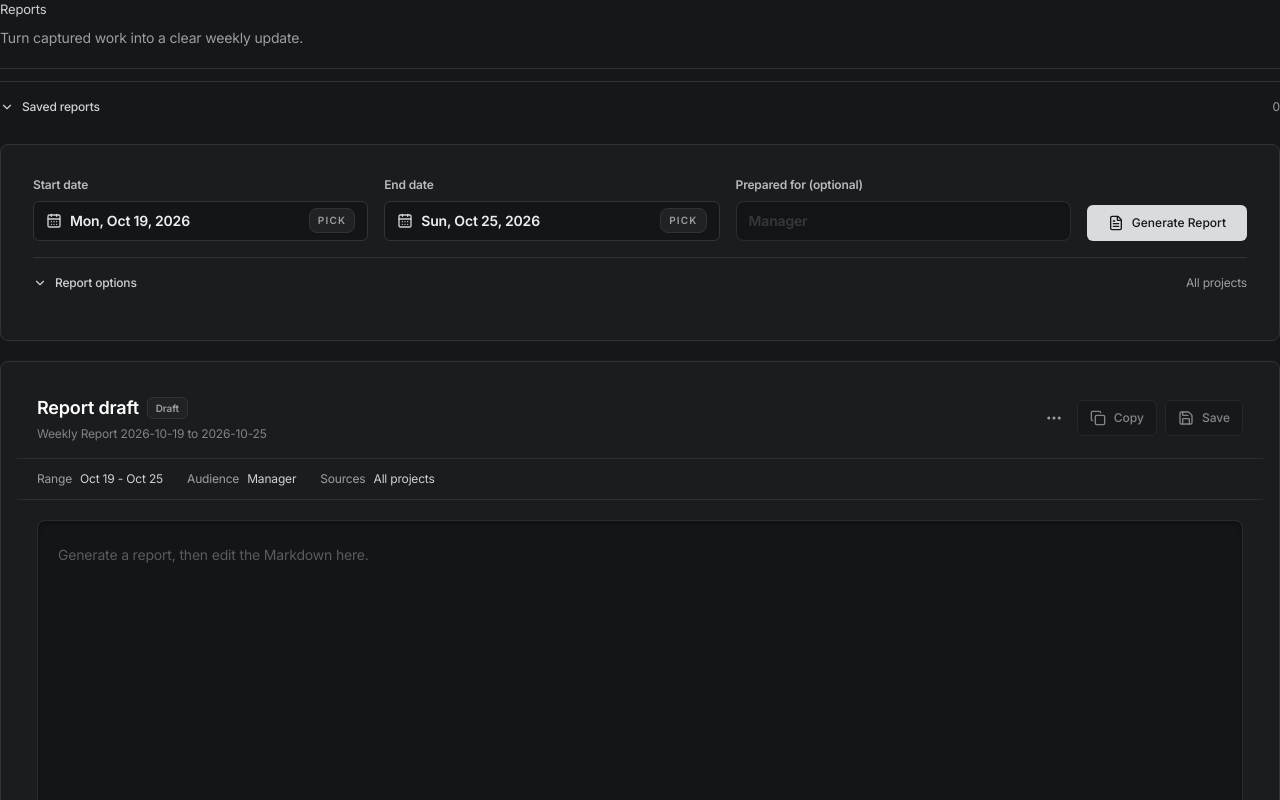
Test: progressive Developer workflows › keeps history failures distinct from an empty history
Click the button "Saved reports 0" at coordinates (61, 106), box [0,92,1279,122]
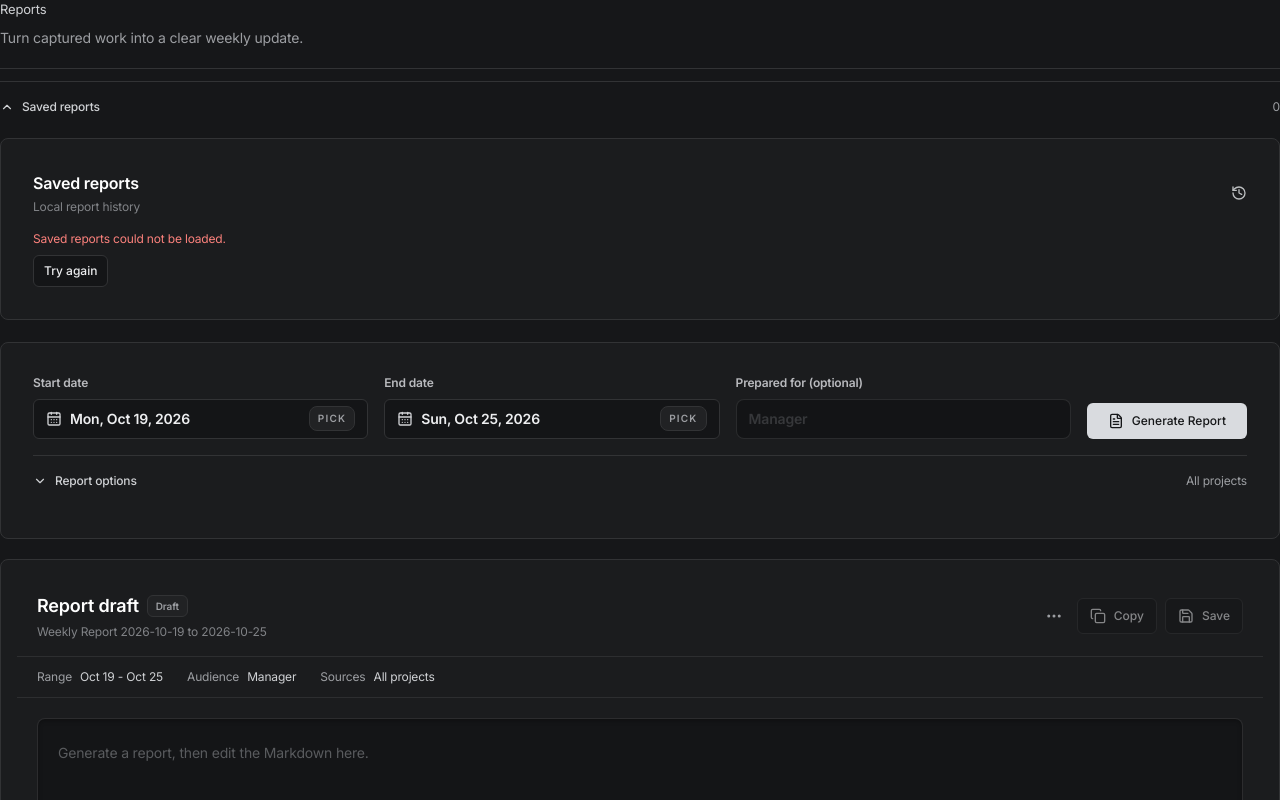
Now the text "Saved reports could not be loaded." is shown, box [33,230,226,246]
